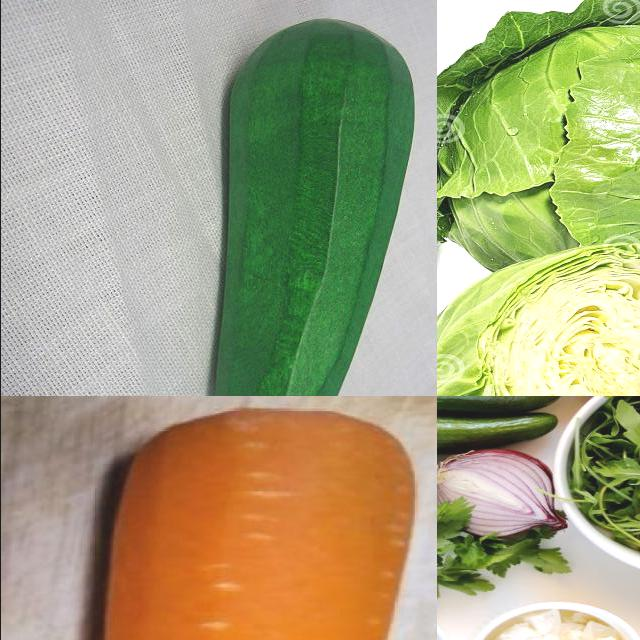cabbage: (437, 1, 640, 292), (437, 246, 640, 397)
carrot: (87, 402, 431, 640)
cucumber: (437, 411, 552, 455)
onion: (437, 455, 561, 536)
zucchini: (204, 6, 437, 397)
